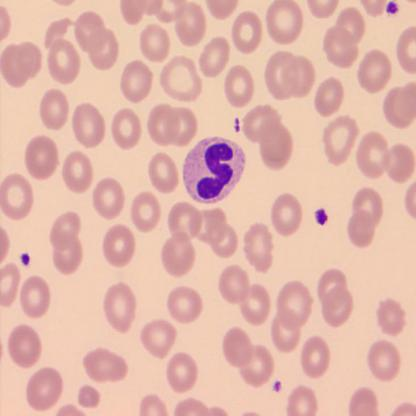Band Neutrophil: (181, 133, 248, 207)
